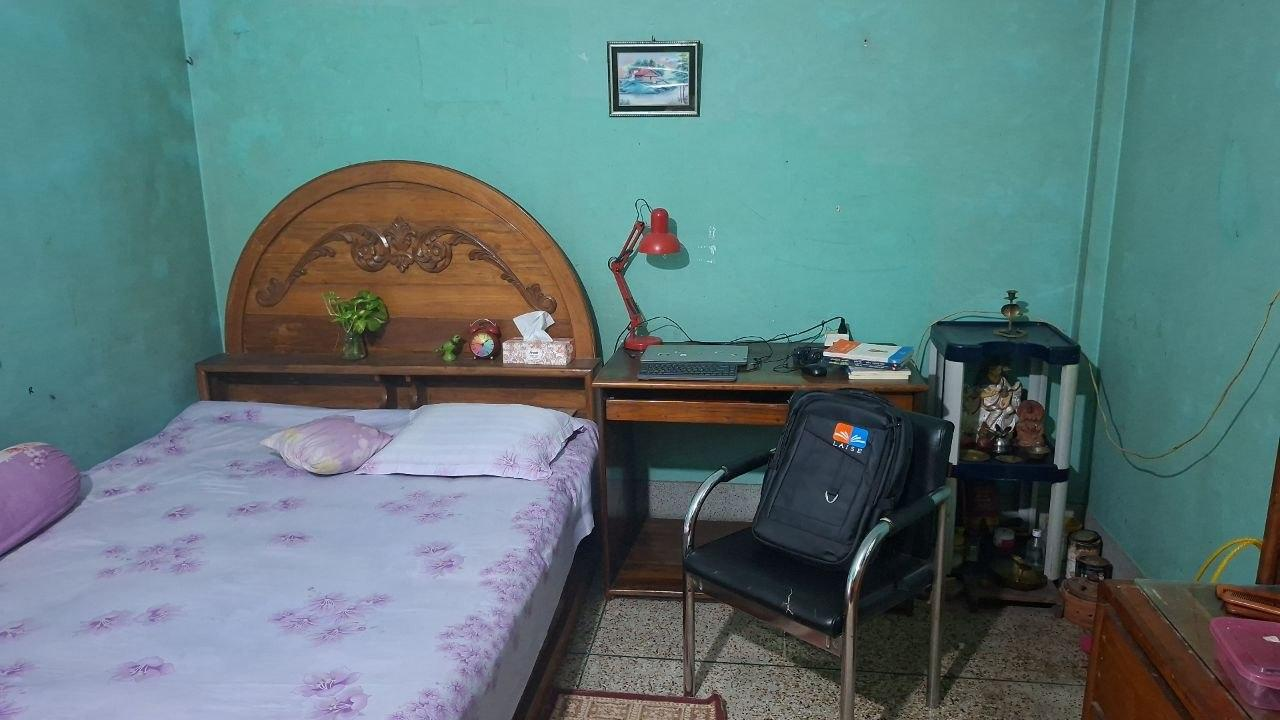Bag: (748, 384, 925, 575)
Book: (817, 336, 919, 379)
Box: (1197, 596, 1280, 716), (497, 328, 578, 370)
Chair: (668, 392, 956, 690)
Clock: (460, 311, 503, 363)
Drawer: (1080, 578, 1177, 714), (595, 391, 930, 422)
Floor Mat: (546, 679, 739, 719)
Keyboard: (631, 366, 742, 384)
Laptop: (643, 333, 754, 363)
Light: (598, 195, 689, 360)
Mouse: (794, 361, 835, 382)
Pillow: (364, 397, 589, 487), (3, 407, 93, 553), (248, 418, 400, 478)
Plant: (316, 279, 395, 364)
Pot: (1067, 525, 1118, 614)
Rack: (915, 295, 1095, 606)
Table: (583, 322, 956, 626)
Table Lamp: (589, 193, 698, 367)
